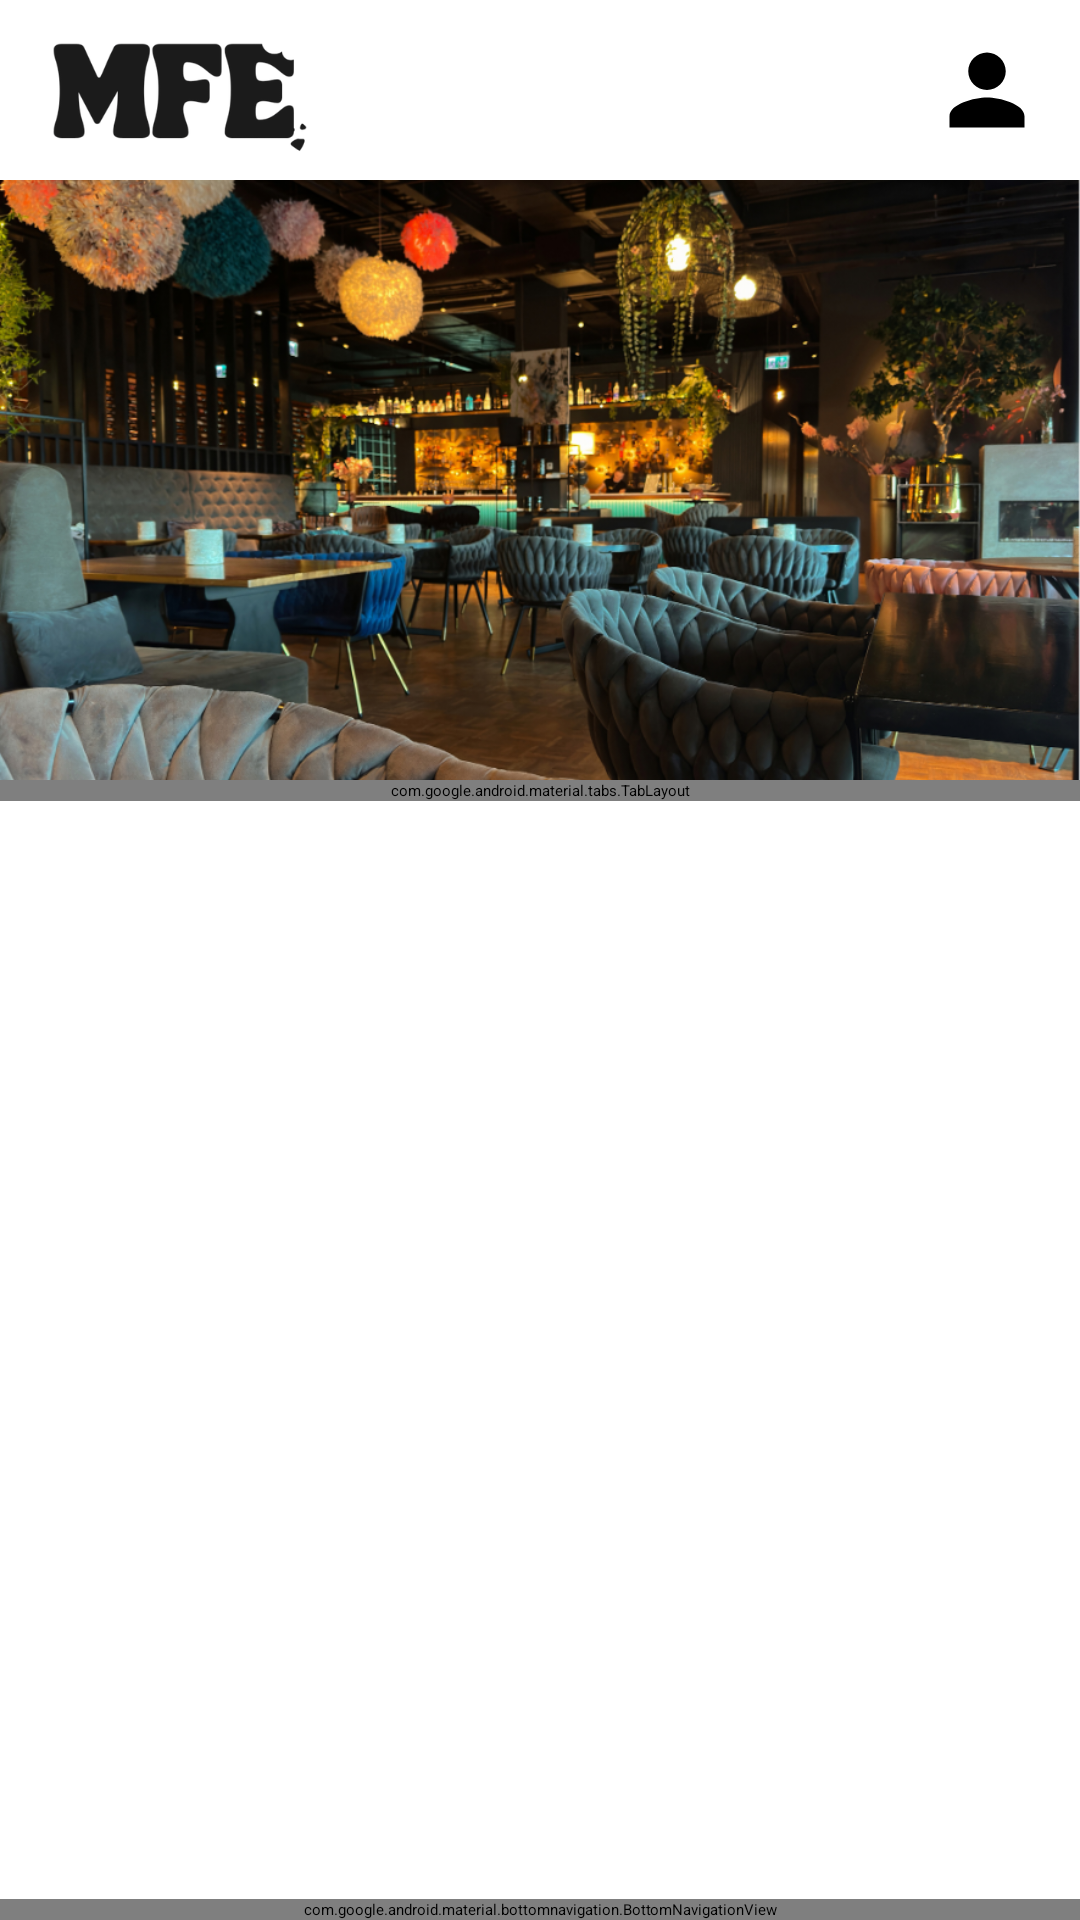

Icons on this 1080*1920 Android screen, each with its box as (x1, y1, x2, y2):
profile: (949, 52, 1025, 128)
